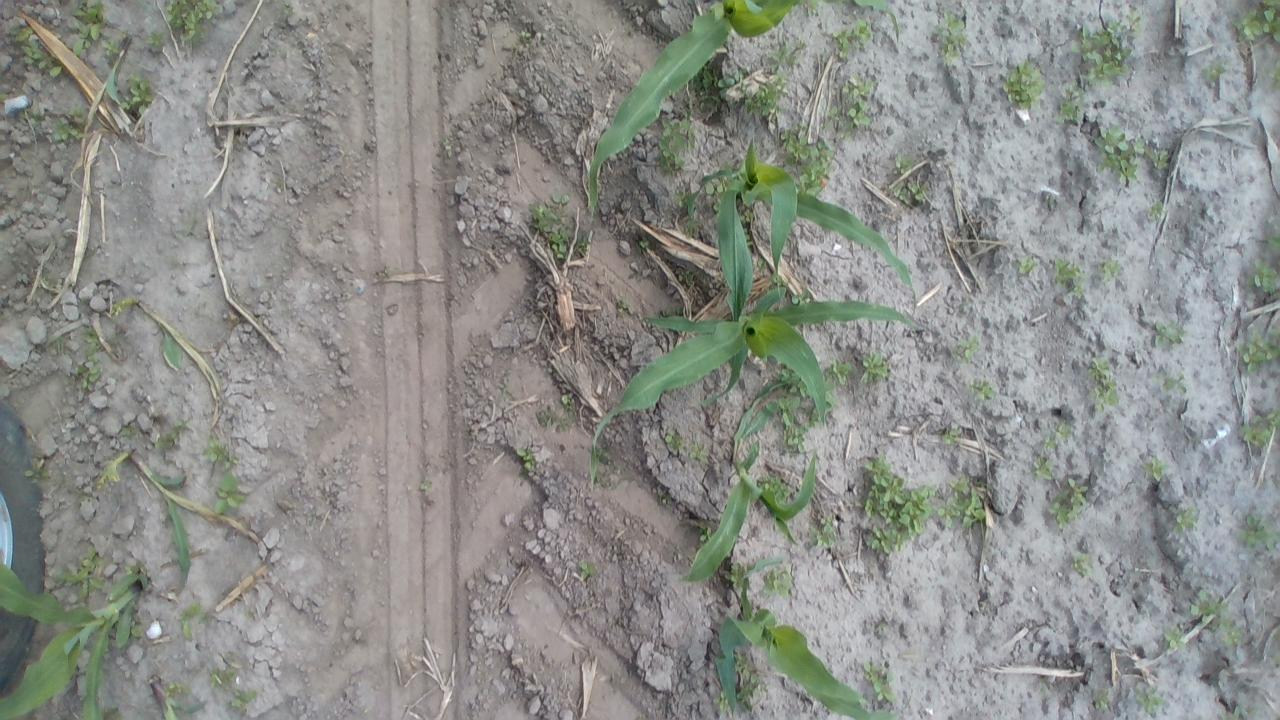Maize: (591, 188, 921, 493), (589, 0, 903, 206), (688, 137, 918, 318), (679, 378, 820, 583), (98, 449, 270, 612), (715, 560, 886, 719), (1, 558, 148, 720), (111, 294, 226, 429)
Weeds: (864, 455, 931, 558), (776, 127, 834, 188), (1080, 16, 1138, 74), (1102, 128, 1166, 180), (13, 26, 62, 81), (940, 474, 987, 530), (533, 195, 578, 251), (832, 75, 874, 128), (166, 0, 218, 42), (62, 554, 106, 600), (1004, 62, 1046, 109), (1238, 2, 1280, 48), (656, 114, 690, 170), (1088, 354, 1120, 413), (1050, 476, 1086, 524), (828, 18, 871, 57), (861, 660, 896, 706), (763, 39, 806, 75), (938, 14, 966, 66), (1242, 330, 1280, 368), (1237, 510, 1271, 548), (213, 474, 245, 514), (1240, 412, 1276, 446), (696, 65, 720, 115), (750, 79, 781, 117), (1152, 310, 1184, 346), (737, 656, 760, 706), (204, 437, 236, 470), (124, 77, 157, 108), (76, 357, 108, 388), (76, 6, 106, 39), (178, 604, 204, 642), (859, 352, 890, 383), (1052, 258, 1082, 289), (1138, 688, 1170, 716), (814, 513, 839, 548), (1173, 500, 1201, 530), (761, 570, 793, 596), (952, 335, 985, 359), (1058, 87, 1082, 120), (1143, 452, 1169, 482), (517, 443, 542, 474), (1254, 264, 1278, 296), (828, 356, 852, 385), (1222, 618, 1246, 646), (1196, 594, 1222, 618), (1044, 420, 1068, 446), (56, 112, 82, 136), (155, 429, 182, 452), (84, 326, 105, 354), (1100, 258, 1122, 284), (26, 463, 54, 483), (785, 372, 807, 397), (973, 375, 995, 400), (1164, 626, 1186, 650), (718, 68, 742, 90), (906, 175, 924, 204), (1074, 552, 1094, 578), (781, 426, 806, 446), (1206, 62, 1228, 84), (100, 40, 122, 59), (1148, 200, 1165, 224), (1016, 253, 1035, 274), (894, 154, 910, 176), (664, 428, 682, 447), (576, 562, 595, 580), (1031, 459, 1051, 476), (716, 690, 730, 714), (704, 180, 724, 196), (562, 393, 578, 410), (73, 38, 88, 56), (639, 231, 652, 250), (698, 528, 712, 542), (520, 27, 531, 40)
